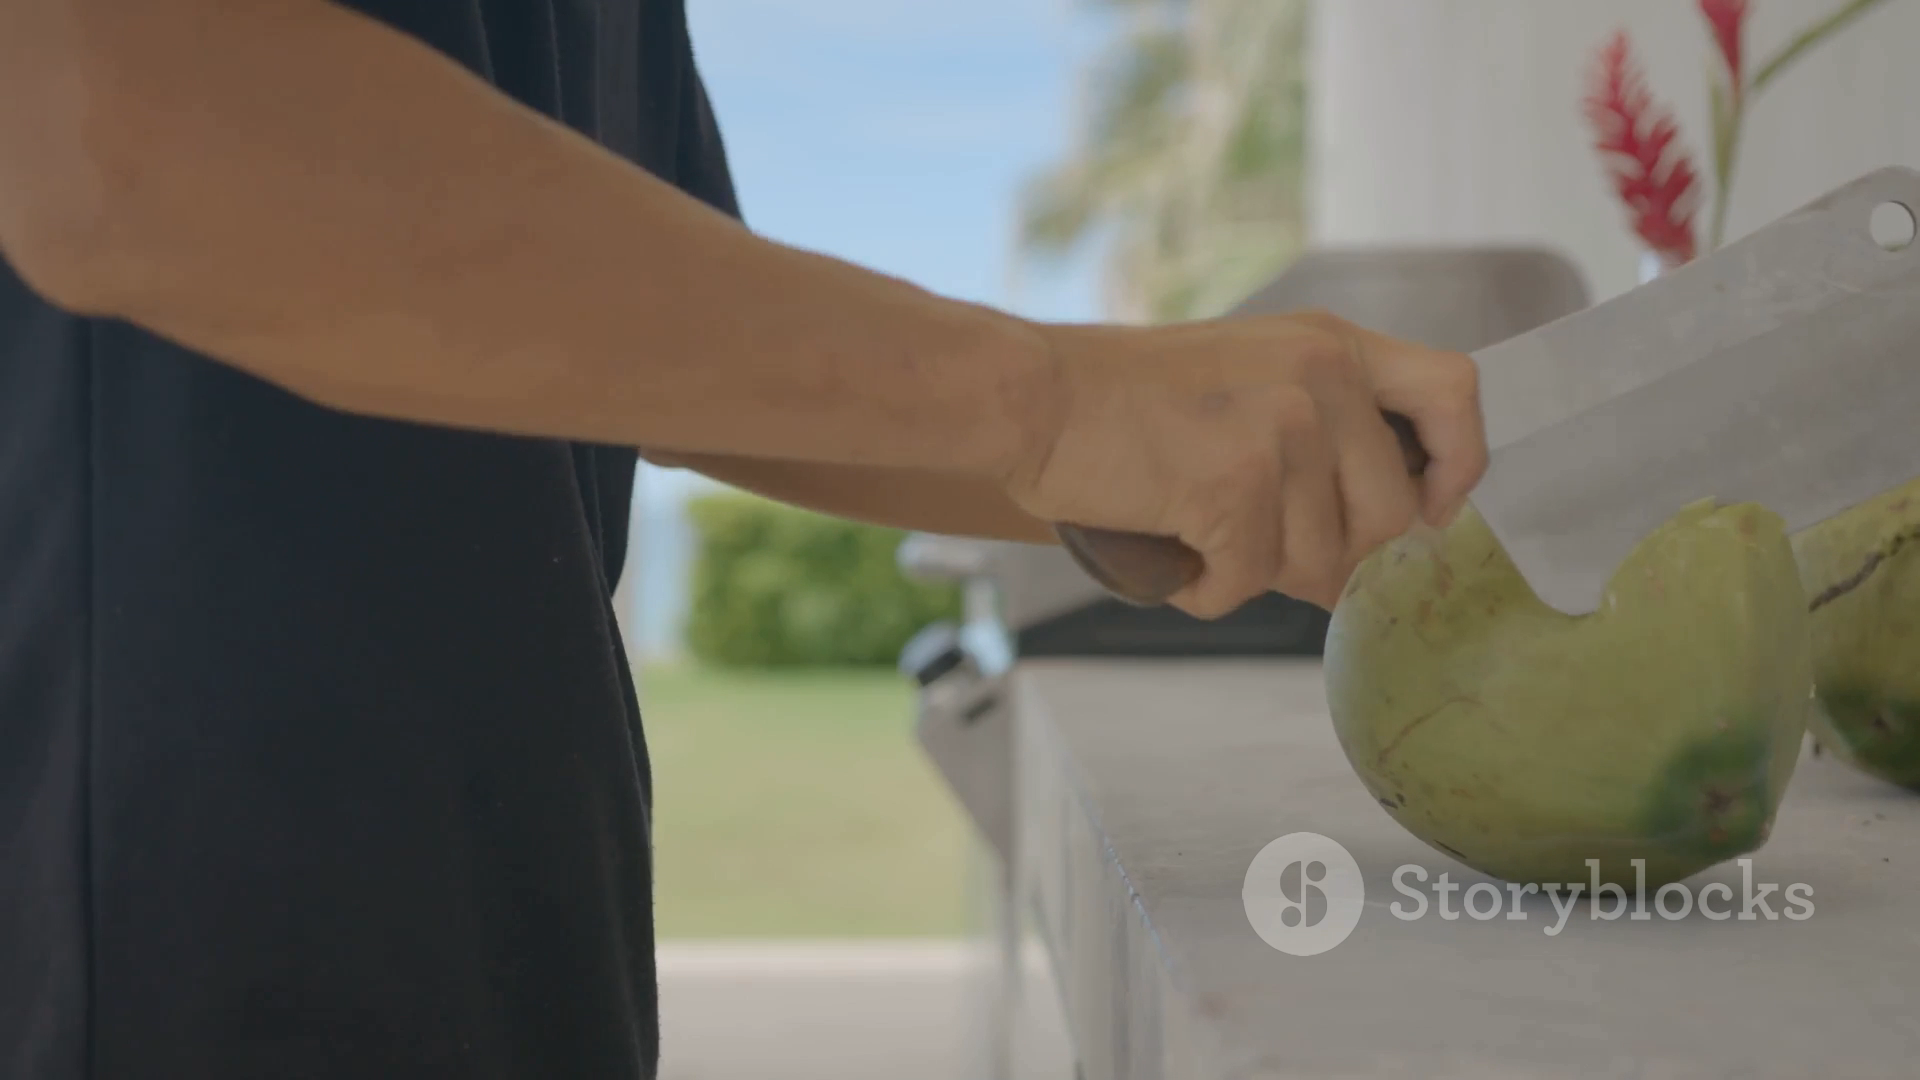cortante: (1448, 162, 1920, 617)
